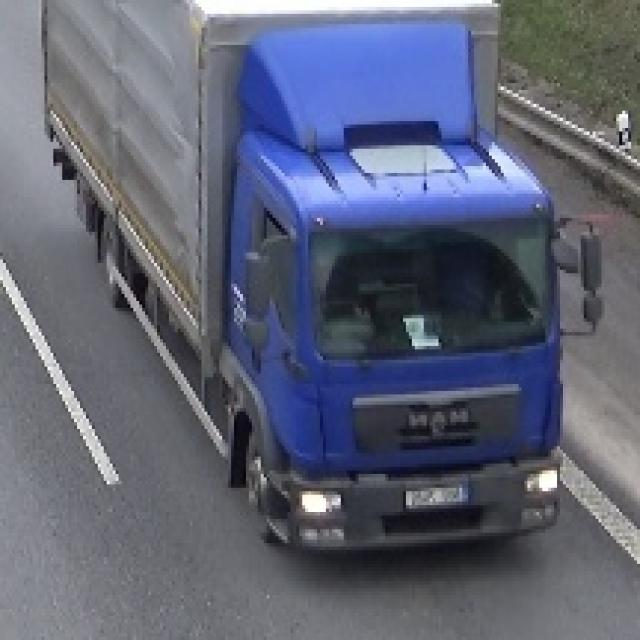truck: (39, 0, 602, 554)
